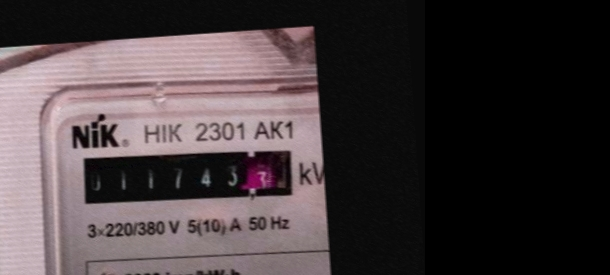0: (85, 164, 101, 192)
1: (112, 162, 128, 191), (140, 162, 155, 190)
3: (221, 160, 237, 188), (250, 168, 267, 190)
4: (195, 163, 211, 189)
7: (167, 163, 183, 189)
screen: (71, 137, 301, 216)
